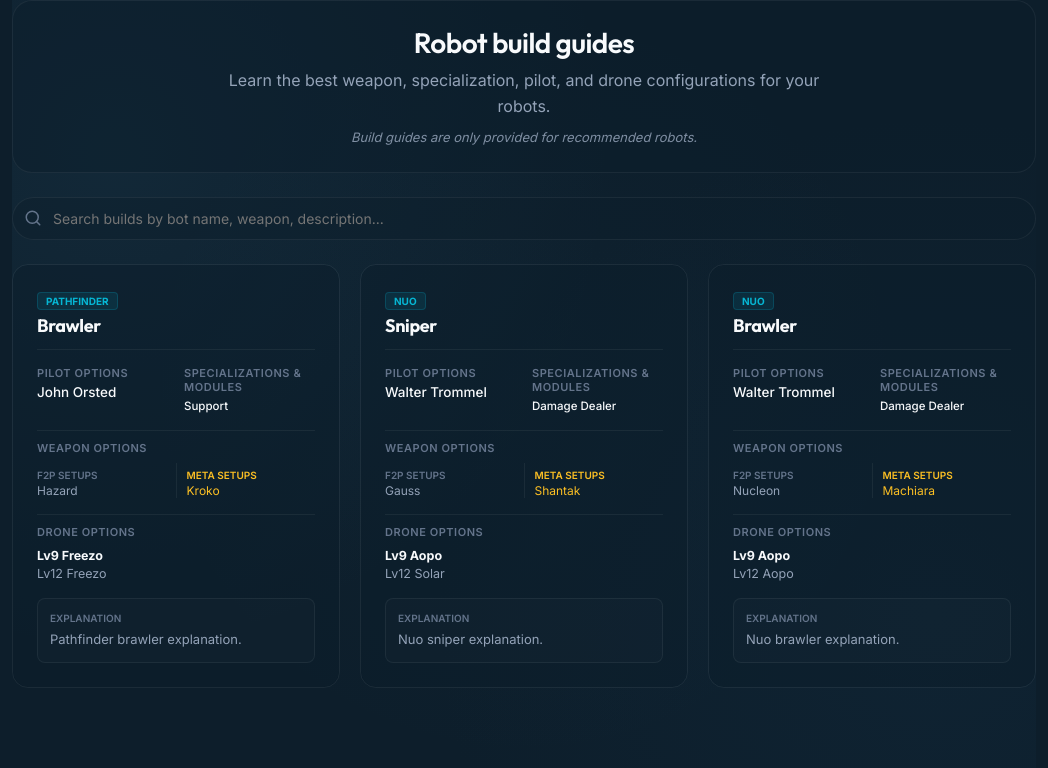
it: BuildGuidesTab Search and Duplication Fix › prioritizes robot name in search results sorting
The width and height of the screenshot is (1048, 768).
In the field with placeholder "Search builds by bot name, weapon, description...": (524, 218) [12,197,1036,240], type "nuo"
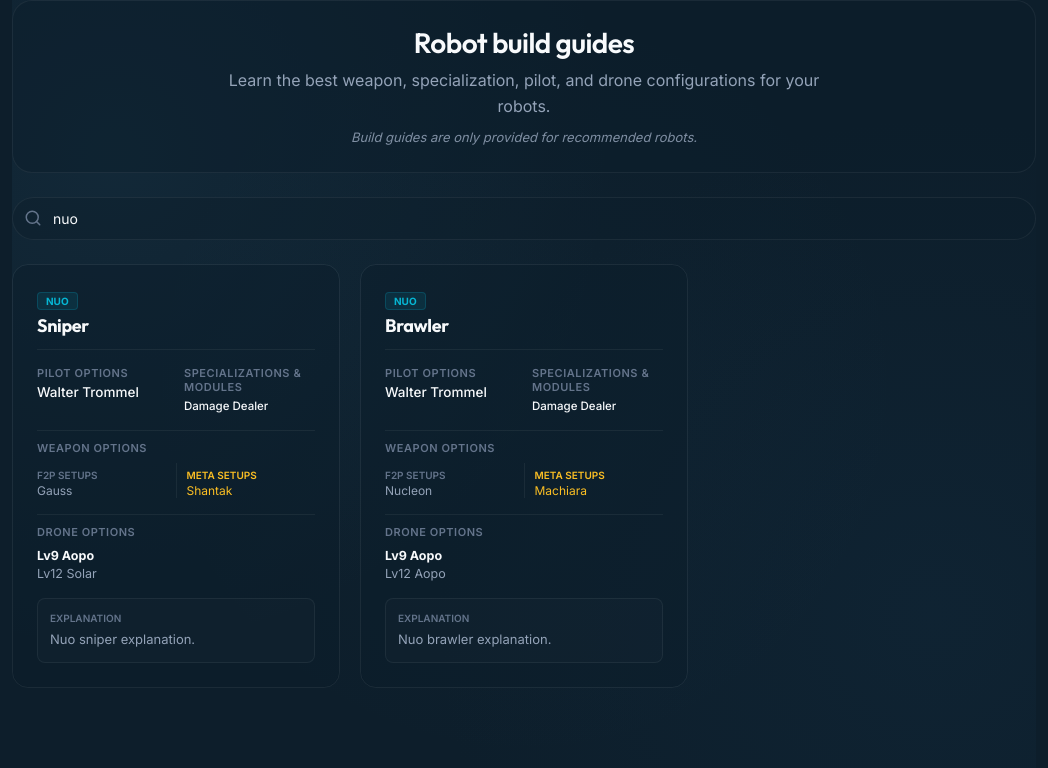
Expected: the number of buttons with class "build-card" is 2, [12,264,340,688]; [360,264,688,688]
